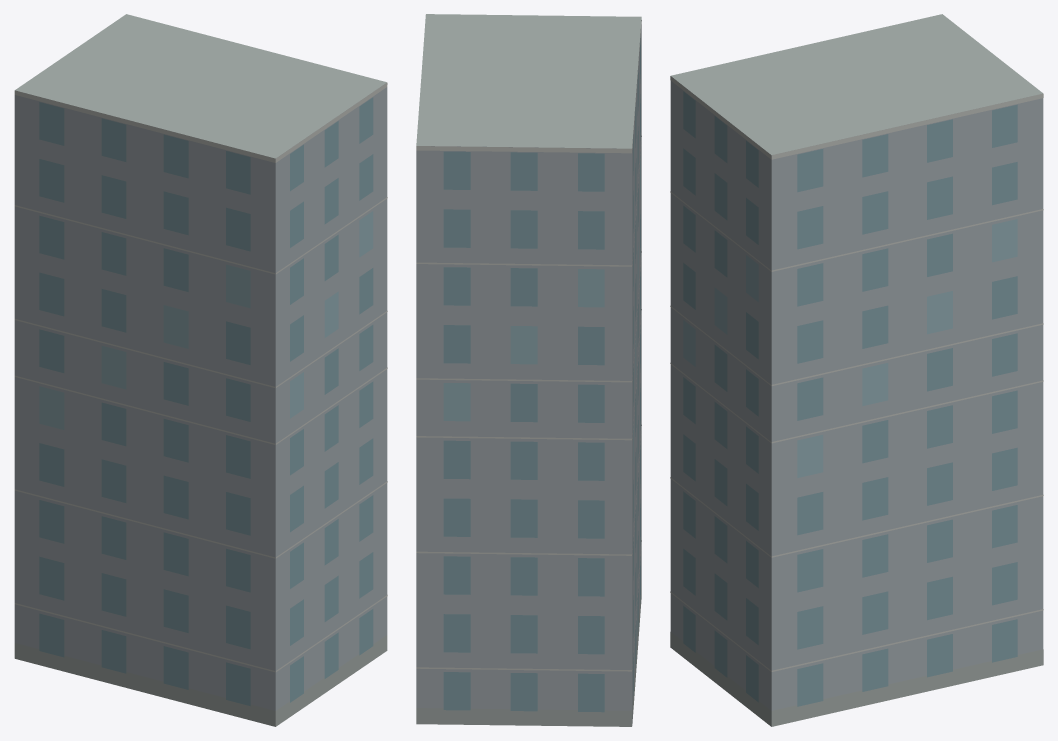
File: residential-e1fcffc8-f7fa-4bb3-90bb-545a69810488.glb
3 renders of one model, left to right at view 1: azimuth 30°, elevation 25°; view 2: azimuth 150°, elevation 25°; view 3: azimuth 270°, elevation 25°, orthographic.
Visible parts, largest first — view 1: residential-e1fcffc8-f7fa-4bb3-90bb-545a69810488.tmp; view 2: residential-e1fcffc8-f7fa-4bb3-90bb-545a69810488.tmp; view 3: residential-e1fcffc8-f7fa-4bb3-90bb-545a69810488.tmp.
Part boxes in pixels (<box>): residential-e1fcffc8-f7fa-4bb3-90bb-545a69810488.tmp: <box>14,14,387,726</box>; residential-e1fcffc8-f7fa-4bb3-90bb-545a69810488.tmp: <box>416,14,641,726</box>; residential-e1fcffc8-f7fa-4bb3-90bb-545a69810488.tmp: <box>670,14,1043,726</box>.
Size of the model in its own units: 16.18 by 30.5 by 18.06.
